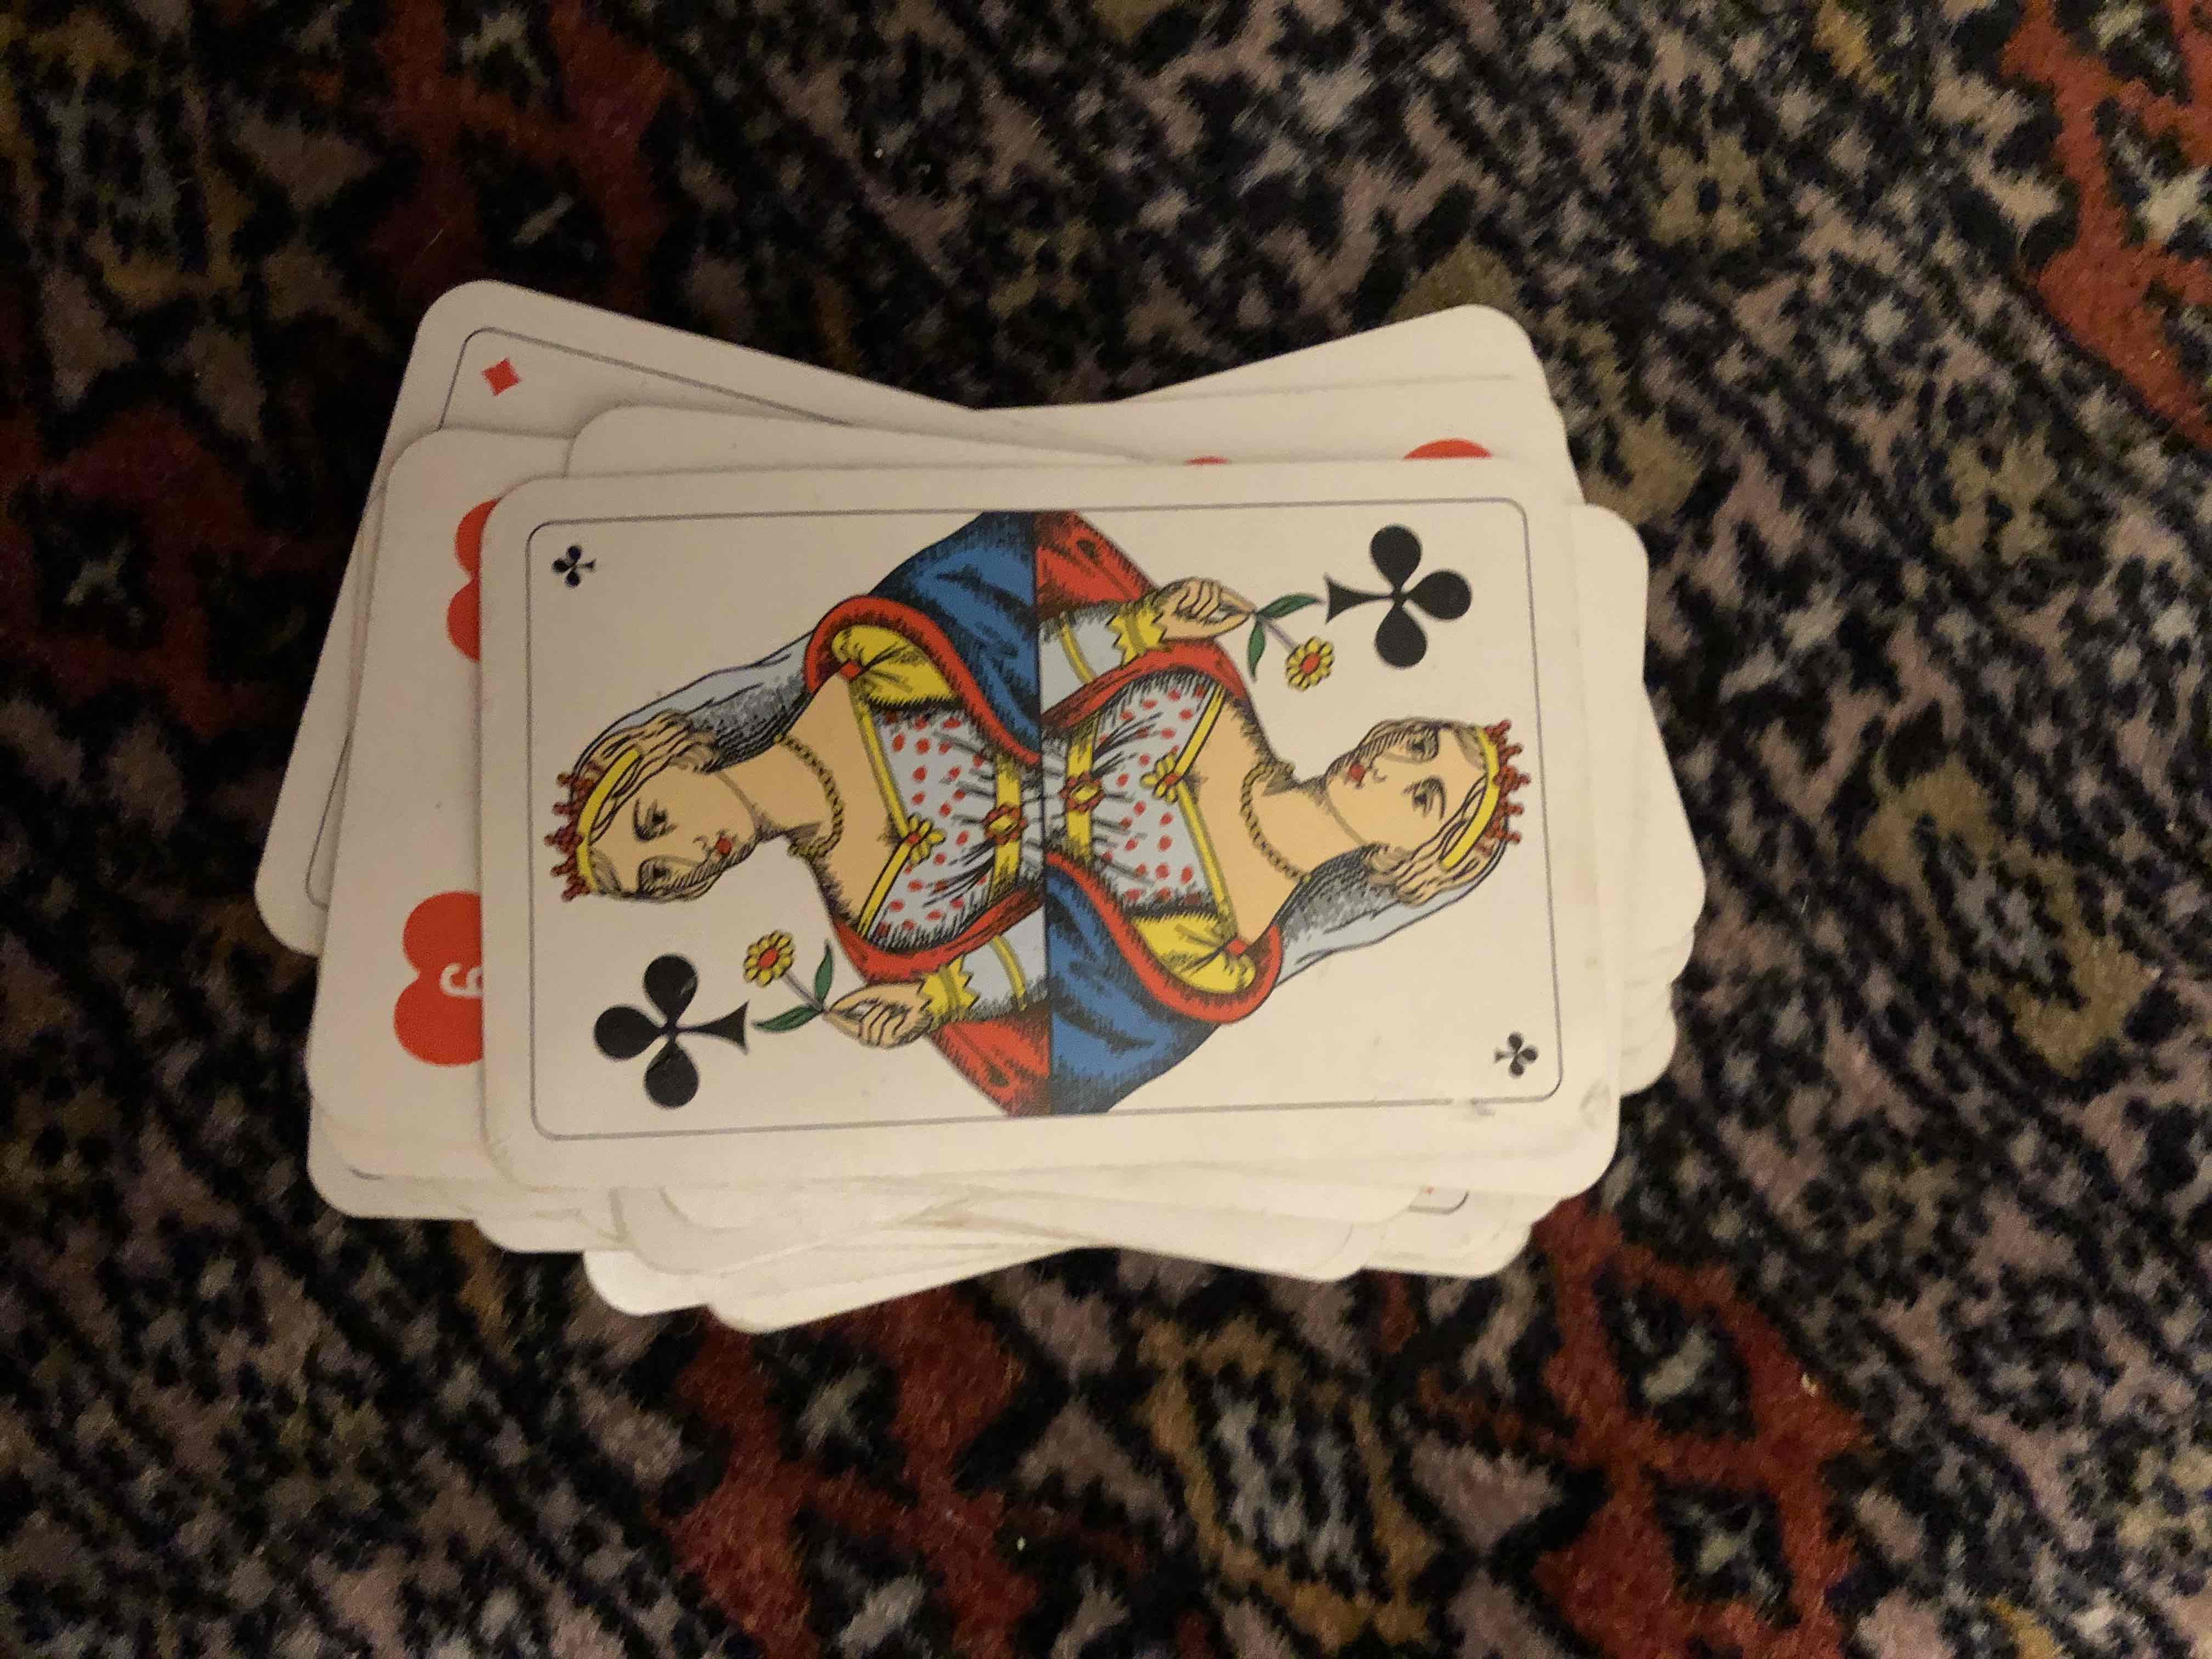clubsQueen: (491, 458, 1622, 1164)
